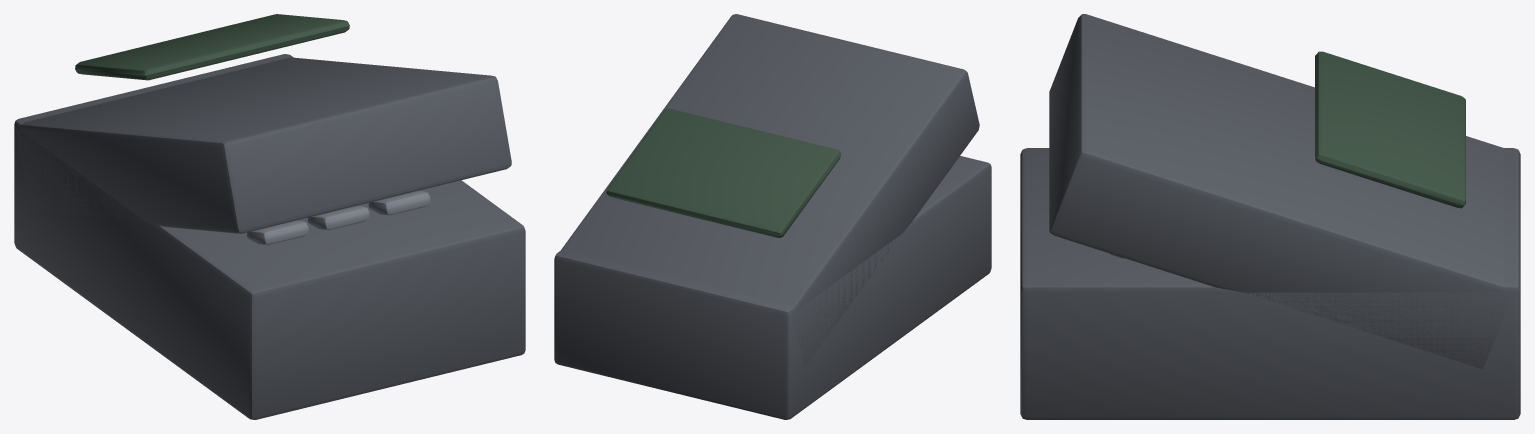
File: cardterm.glb
The picture shows the model from 3 angles, left to right: view 1: azimuth 30°, elevation 25°; view 2: azimuth 150°, elevation 25°; view 3: azimuth 270°, elevation 25°; orthographic projection. The views are drawn at different scales.
Parts seen in each view (by area): view 1: cardterm; view 2: cardterm; view 3: cardterm.
Part boxes in pixels (bbox=[...]): cardterm: bbox=[14, 14, 525, 419]; cardterm: bbox=[554, 14, 991, 419]; cardterm: bbox=[1020, 14, 1520, 419].
Size of the model in its own units: 0.1 by 0.0893 by 0.15.
